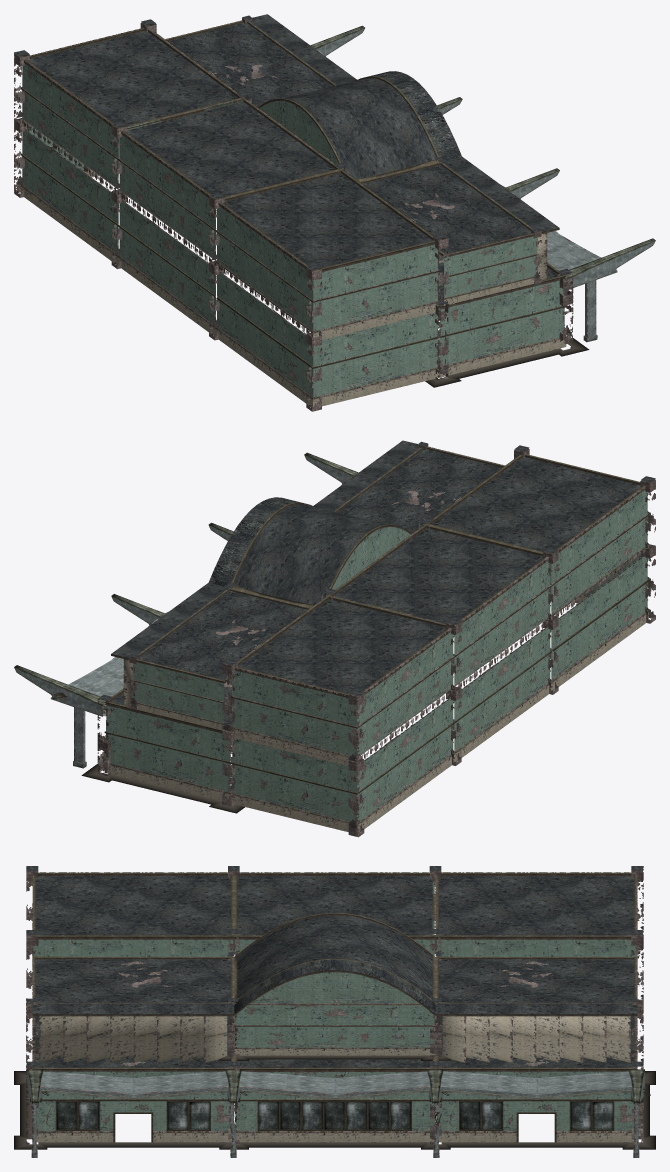
File: SuperMart.FBX
3 views of the same model, one above another, from view 1: azimuth 30°, elevation 25°; view 2: azimuth 150°, elevation 25°; view 3: azimuth 270°, elevation 25° (orthographic). The views are drawn at different scales.
Visible parts, largest first — view 1: GNRRoof01, ParadiseFallsMaintile02, ParadiseFallsMaintile01, ParadiseFallsEdgeTrim01Solid, ParadiseFallsEdgeTrim01, ParadiseFallsMetalTile01, ParadiseFallsMaintile01Cutout, MetalWorkQuad01, Shadow; view 2: GNRRoof01, ParadiseFallsMaintile02, ParadiseFallsMaintile01, ParadiseFallsEdgeTrim01Solid, ParadiseFallsEdgeTrim01, ParadiseFallsMetalTile01, ParadiseFallsMaintile01Cutout, MetalWorkQuad01, Shadow; view 3: GNRRoof01, ParadiseFallsMaintile01, ParadiseFallsMaintile02, ParadiseFallsMetalTile01, WindowBank04, ParadiseFallsEdgeTrim01, Shadow, ParadiseFallsEdgeTrim01Solid, MetalWorkQuad01, ParadiseFallsMaintile01Cutout, ParadiseFallsEdgeTrim02.
Part boxes in pixels (bbox=[...]): GNRRoof01: bbox=[14, 14, 572, 305]; ParadiseFallsMaintile02: bbox=[22, 64, 564, 397]; ParadiseFallsMaintile01: bbox=[21, 19, 566, 407]; ParadiseFallsEdgeTrim01Solid: bbox=[14, 17, 572, 411]; ParadiseFallsEdgeTrim01: bbox=[14, 19, 573, 399]; ParadiseFallsMetalTile01: bbox=[316, 30, 653, 337]; ParadiseFallsMaintile01Cutout: bbox=[26, 69, 553, 380]; MetalWorkQuad01: bbox=[310, 25, 655, 342]; Shadow: bbox=[425, 338, 589, 387]; GNRRoof01: bbox=[98, 440, 655, 726]; ParadiseFallsMaintile02: bbox=[106, 490, 647, 822]; ParadiseFallsMaintile01: bbox=[104, 446, 650, 831]; ParadiseFallsEdgeTrim01Solid: bbox=[97, 444, 655, 837]; ParadiseFallsEdgeTrim01: bbox=[55, 445, 649, 836]; ParadiseFallsMetalTile01: bbox=[16, 457, 352, 763]; ParadiseFallsMaintile01Cutout: bbox=[131, 508, 632, 811]; MetalWorkQuad01: bbox=[14, 452, 358, 768]; Shadow: bbox=[81, 764, 244, 813]; GNRRoof01: bbox=[26, 866, 643, 1067]; ParadiseFallsMaintile01: bbox=[32, 872, 637, 1142]; ParadiseFallsMaintile02: bbox=[33, 882, 636, 1131]; ParadiseFallsMetalTile01: bbox=[27, 1071, 644, 1152]; WindowBank04: bbox=[57, 1102, 612, 1129]; ParadiseFallsEdgeTrim01: bbox=[26, 866, 643, 1144]; Shadow: bbox=[14, 1055, 655, 1149]; ParadiseFallsEdgeTrim01Solid: bbox=[26, 871, 643, 1144]; MetalWorkQuad01: bbox=[27, 1069, 650, 1157]; ParadiseFallsMaintile01Cutout: bbox=[41, 1004, 631, 1126]; ParadiseFallsEdgeTrim02: bbox=[31, 1086, 639, 1157].
Size of what is drawn, in the model's own units: 21.06 by 9.46 by 32.6.
